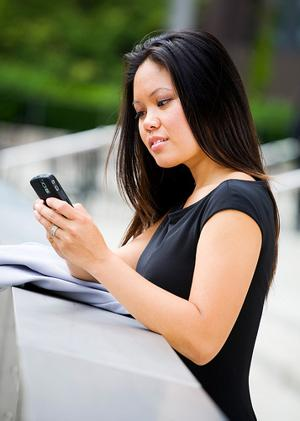person: (34, 29, 281, 421)
